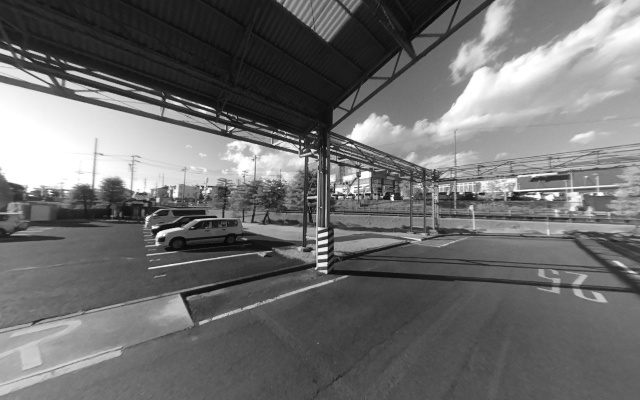bollard: (315, 227, 336, 279)
